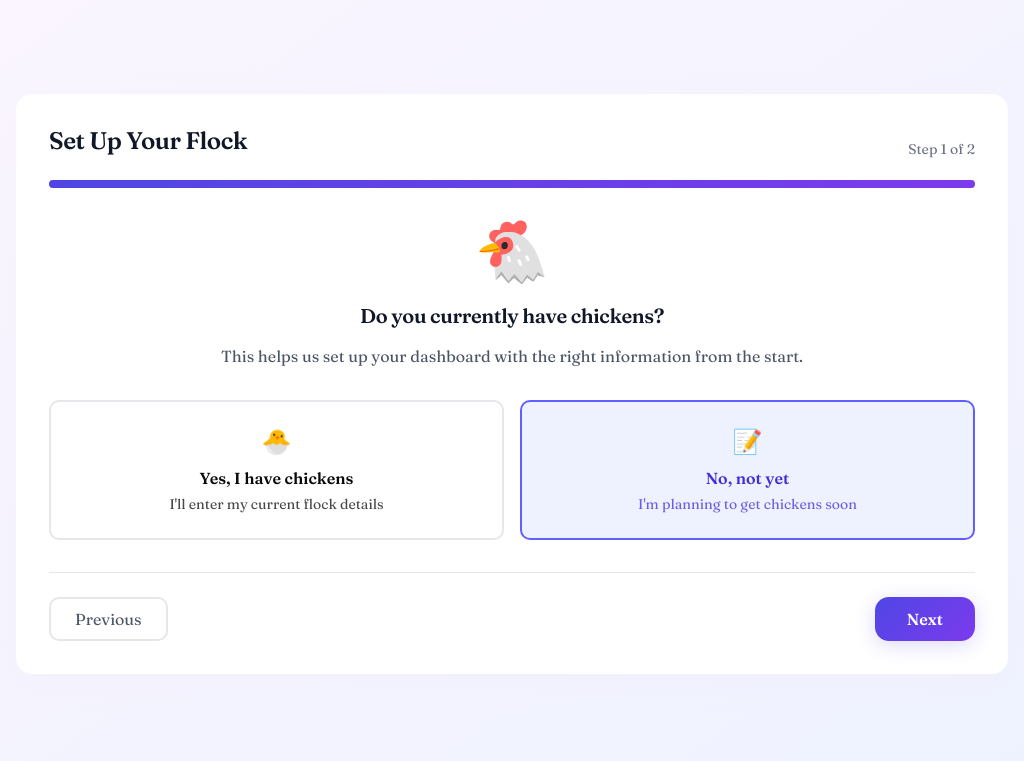
it: OnboardingWizard › proceeds to details step when user has chickens
# Click "Yes, I have chickens"
Click the text "Yes, I have chickens": (276, 478) [200, 468, 354, 488]
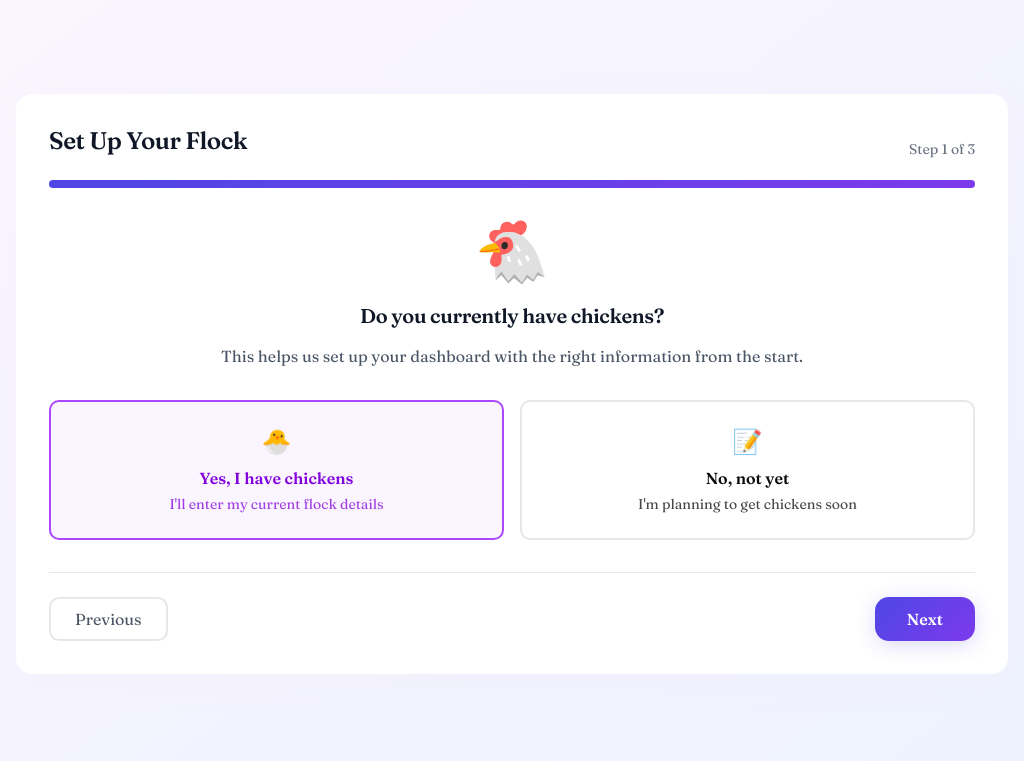
# Click Next
Click the button "Next": (925, 619) [875, 597, 975, 641]
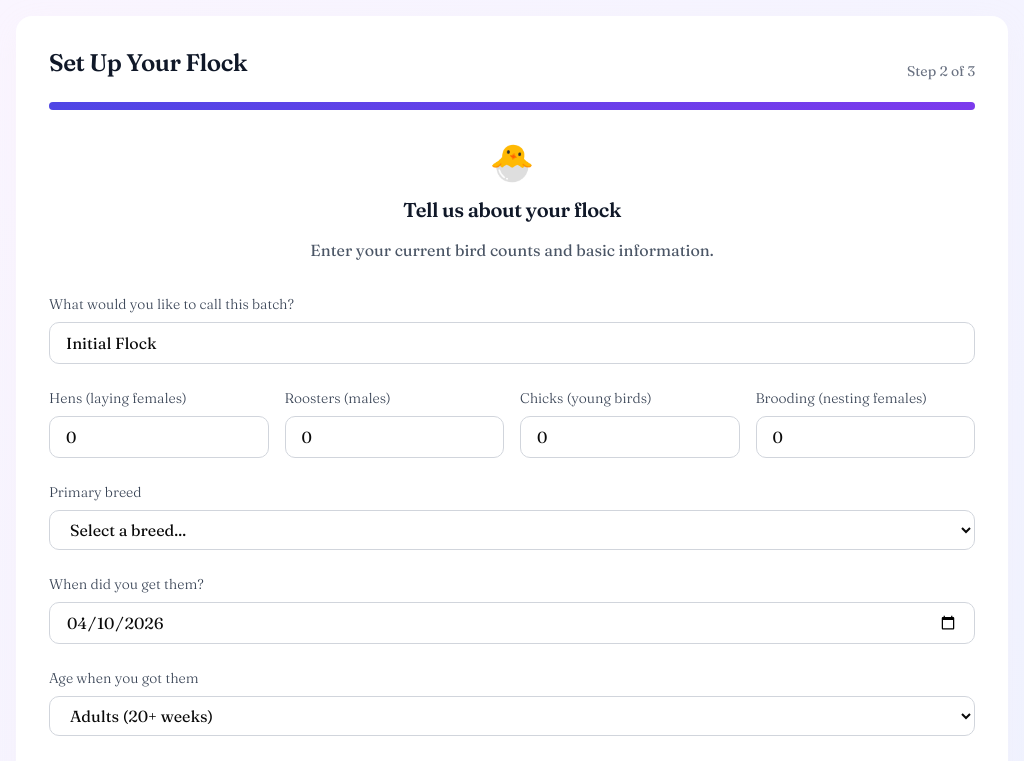
Expected: the heading "Tell us about your flock" is shown, [403, 197, 621, 222]
Expected: the text "Step 2 of 3" is shown, [907, 61, 975, 81]
